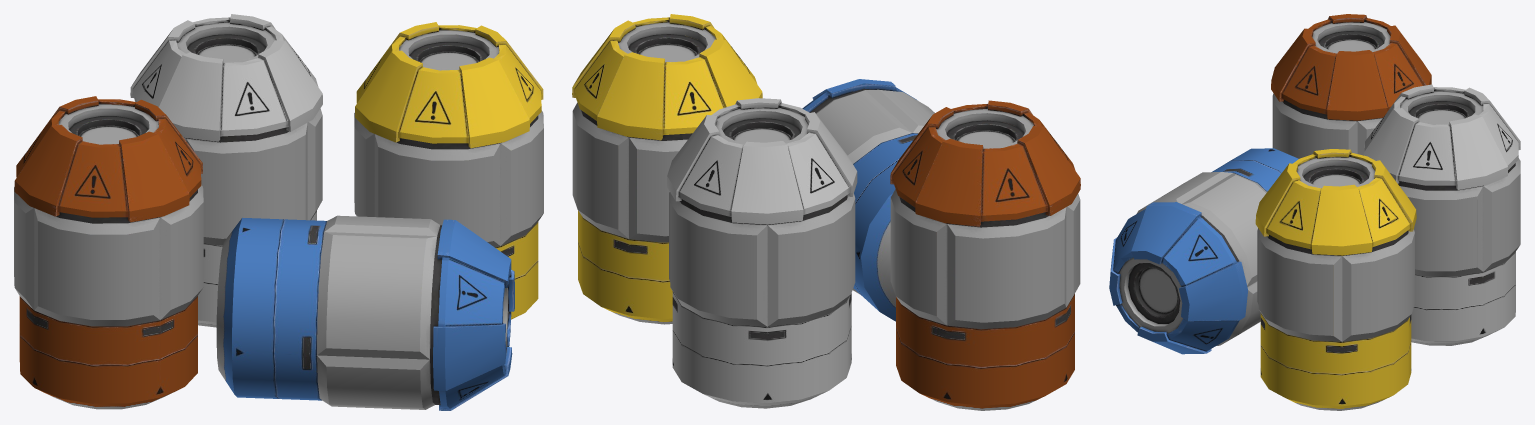
File: canister.glb
3 views of the same model, side by side, from view 1: azimuth 30°, elevation 25°; view 2: azimuth 150°, elevation 25°; view 3: azimuth 270°, elevation 25° (orthographic). The views are drawn at different scales.
Visible parts, largest first — view 1: LP003, LP004, LP001, LP002; view 2: LP003, LP002, LP001, LP004; view 3: LP001, LP002, LP004, LP003.
Part boxes in pixels (x1,y1,x2,y2): LP003: (14,96,203,409); LP004: (216,215,514,410); LP001: (354,22,543,319); LP002: (130,14,322,327); LP003: (890,100,1080,410); LP002: (667,98,857,408); LP001: (572,14,762,324); LP004: (802,79,934,321); LP001: (1255,149,1416,410); LP002: (1363,84,1520,345); LP004: (1109,148,1298,354); LP003: (1271,14,1431,158).
Size of the model in its own units: 198 by 100 by 170.
Materials: 4 (4 with a texture image).
